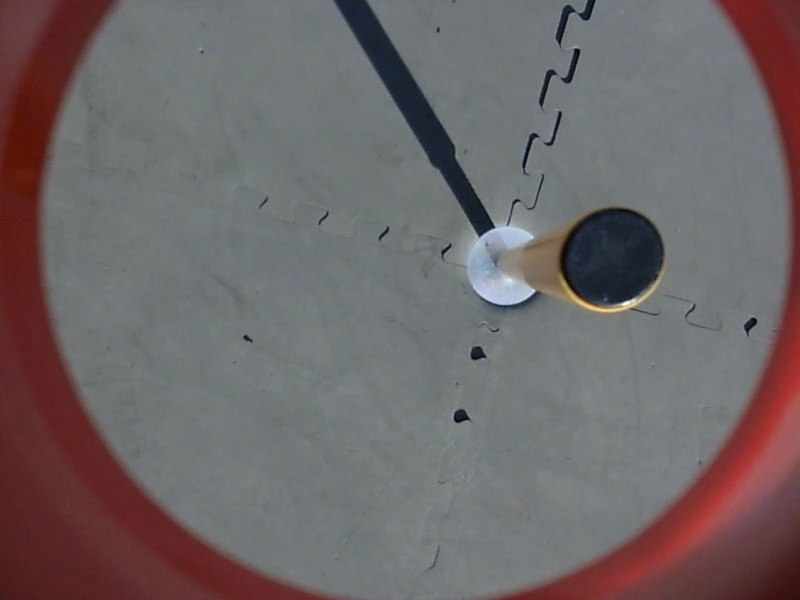tip: (547, 199, 674, 319)
